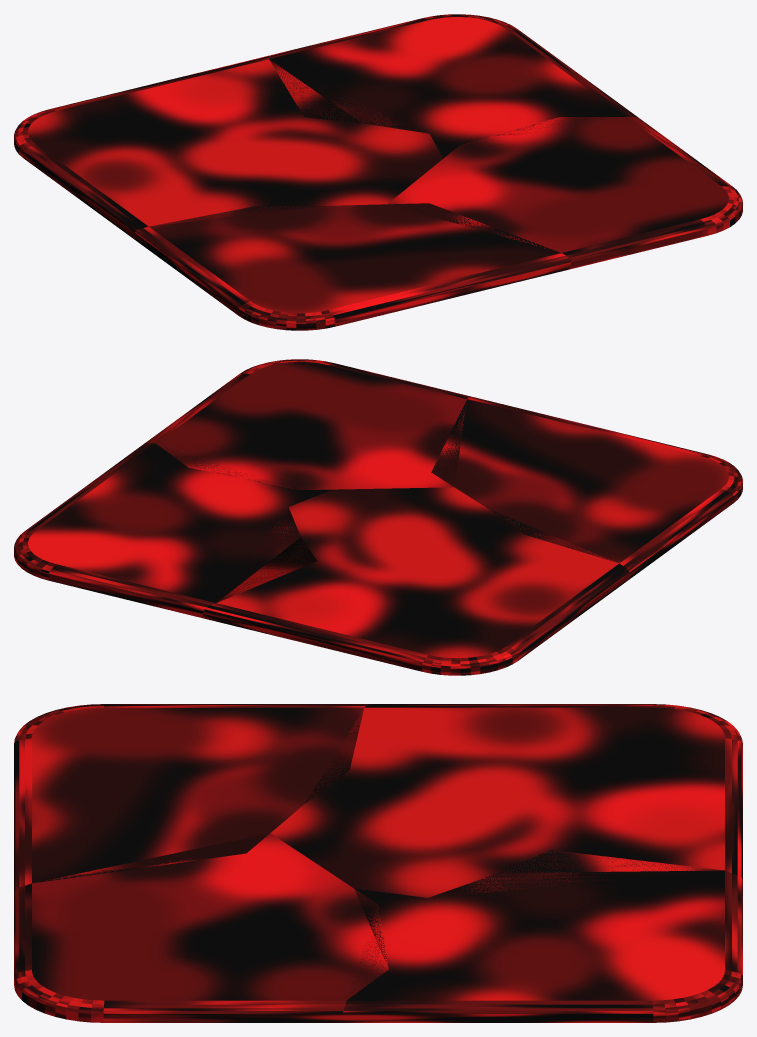
The model's file is Map.glb.
The picture shows the model from 3 angles, top to bottom: view 1: azimuth 30°, elevation 25°; view 2: azimuth 150°, elevation 25°; view 3: azimuth 270°, elevation 25°; orthographic projection. The views are drawn at different scales.
Parts seen in each view (by area): view 1: PZ1, PZ2, PZ3, PZ4; view 2: PZ1, PZ4, PZ2, PZ3; view 3: PZ1, PZ3, PZ4, PZ2.
Boxes of the visible parts, x1,y1,x2,y2 form: PZ1: (14, 56, 443, 239); PZ2: (134, 203, 571, 330); PZ3: (387, 117, 742, 269); PZ4: (268, 14, 637, 158); PZ1: (202, 487, 629, 675); PZ4: (14, 442, 331, 617); PZ2: (431, 396, 742, 578); PZ3: (146, 359, 470, 490); PZ1: (271, 704, 742, 897); PZ3: (14, 833, 388, 1022); PZ4: (343, 850, 742, 1022); PZ2: (14, 704, 368, 890).
Bounding box in the file's own units: 2 × 0.0448 × 2.
1 material, 1 textured.
